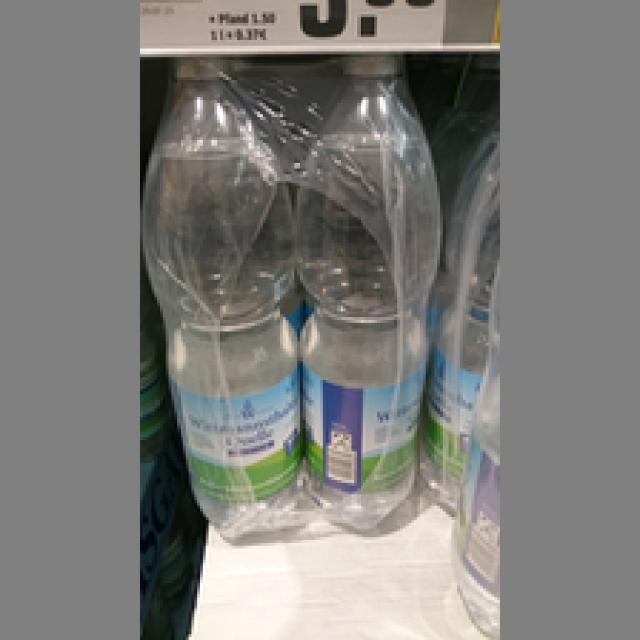groceries: (143, 60, 303, 540), (294, 54, 437, 526)
